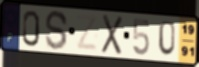0: (22, 9, 42, 48), (156, 20, 176, 58)
5: (132, 17, 151, 57)
S: (44, 9, 69, 52)
X: (100, 13, 125, 57)
Z: (75, 13, 99, 53)
